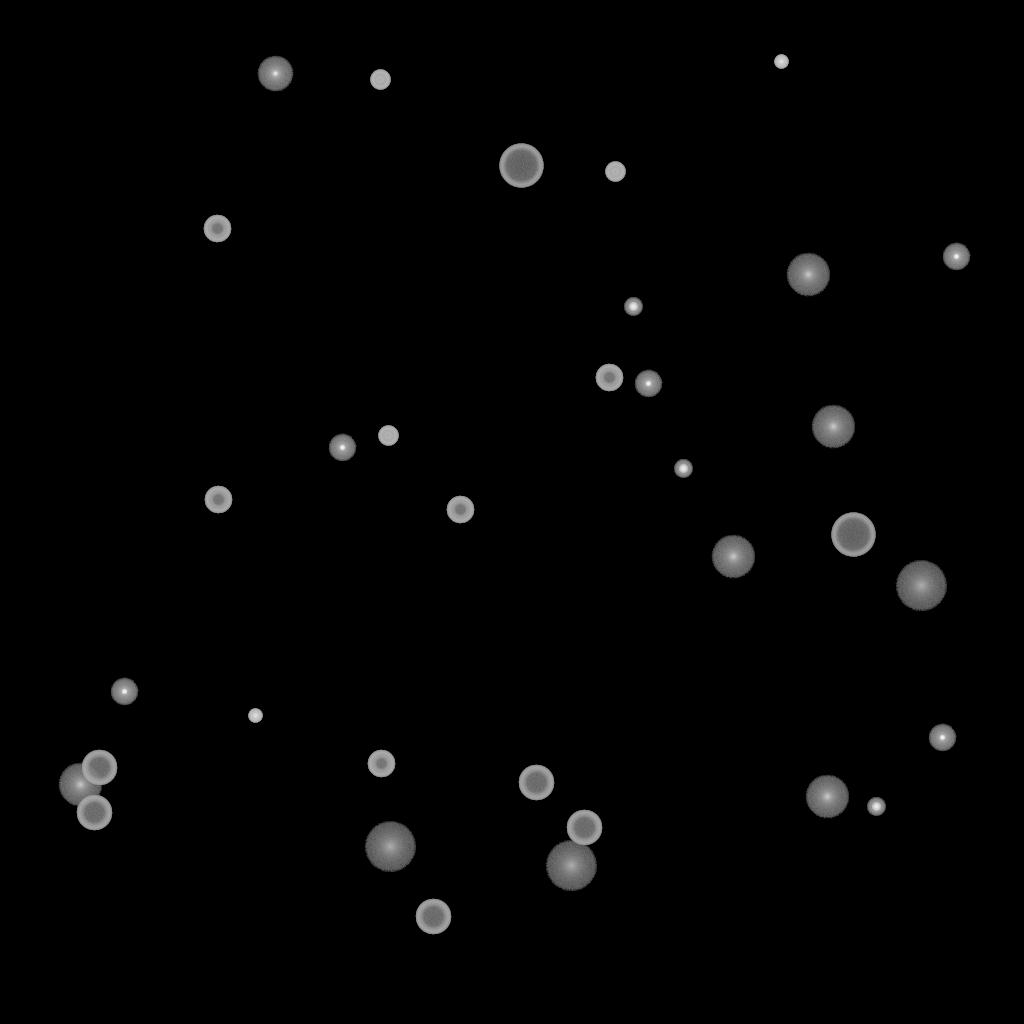depth:-10: (928, 724, 956, 752), (110, 678, 138, 706), (634, 370, 662, 398), (328, 434, 356, 462), (942, 243, 970, 271)
depth:-20: (867, 798, 885, 816), (624, 298, 642, 316), (674, 460, 692, 478)
depth:-30: (248, 709, 262, 723), (774, 55, 788, 69)
depth:-40: (605, 162, 625, 182), (370, 70, 390, 90), (378, 426, 398, 446)
depth:-50: (367, 750, 395, 778), (595, 364, 623, 392), (203, 215, 231, 243), (446, 496, 474, 524), (204, 486, 232, 514)
depth:-60: (415, 899, 451, 935), (81, 750, 117, 786), (518, 765, 554, 801), (566, 810, 602, 846), (76, 795, 112, 831)
depth:-70: (831, 513, 875, 557), (499, 144, 543, 188)
depth:0: (257, 56, 293, 92)
depth:10: (805, 775, 849, 819), (786, 253, 830, 297), (711, 535, 755, 579), (58, 763, 102, 807), (811, 405, 855, 449)
depth:20: (545, 841, 597, 891), (895, 561, 947, 611), (364, 822, 416, 872)
